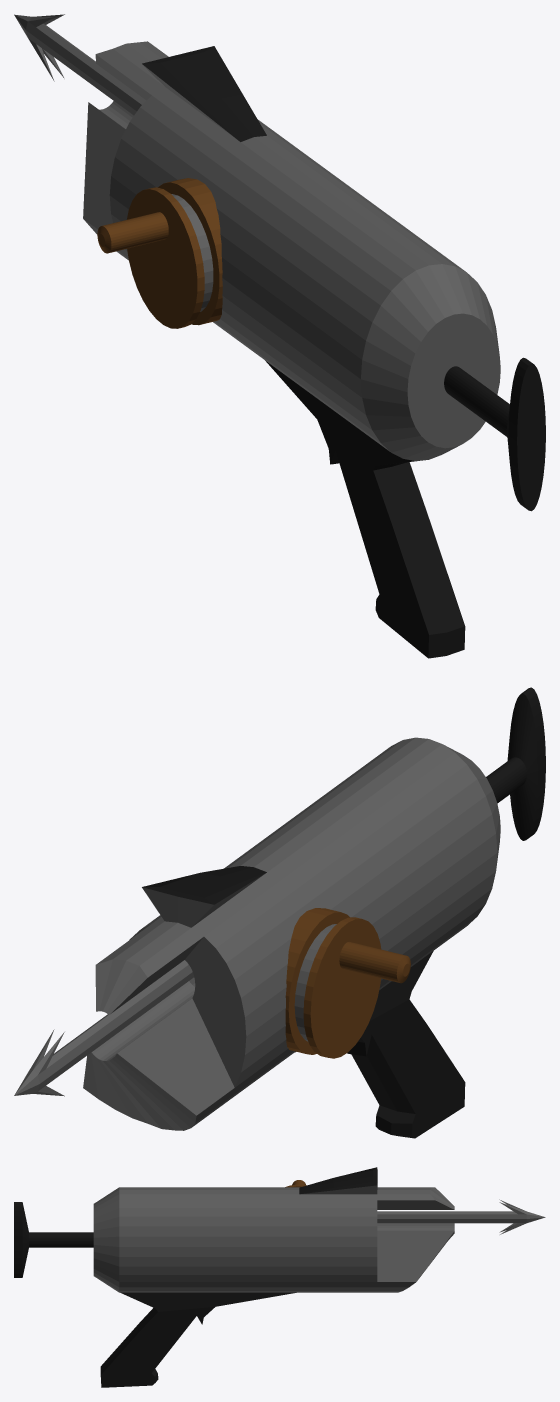
The model's file is HarpoonThrower.fbx.
3 renders of one model, top to bottom at view 1: azimuth 30°, elevation 25°; view 2: azimuth 150°, elevation 25°; view 3: azimuth 270°, elevation 25°, orthographic. The views are drawn at different scales.
Parts seen in each view (by area): view 1: MainPart, Cylinder, Harpoon; view 2: MainPart, Cylinder, Harpoon; view 3: MainPart, Harpoon.
Part boxes in pixels (<box>): MainPart: <box>83,41,545,658</box>; Cylinder: <box>97,178,222,328</box>; Harpoon: <box>14,14,146,115</box>; MainPart: <box>83,687,545,1138</box>; Cylinder: <box>285,908,410,1058</box>; Harpoon: <box>14,960,194,1096</box>; MainPart: <box>14,1167,454,1387</box>; Harpoon: <box>377,1199,545,1234</box>.
Bounding box in the file's own units: 11.87 × 20.84 × 48.25.
